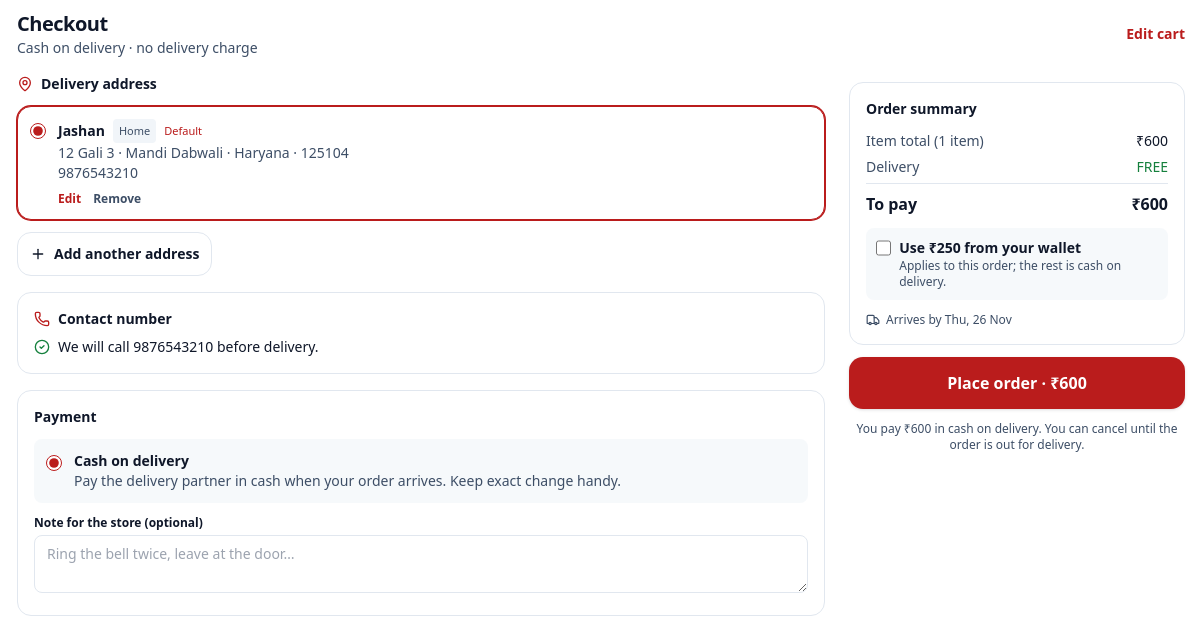
it: CheckoutPage wallet and addresses › switches the wallet on and pays the rest in cash
What coordinates should you click on to do the following:
click the checkbox labelled "from your wallet"
I would click on:
 (884, 248)
Its box is [876,240,891,256].
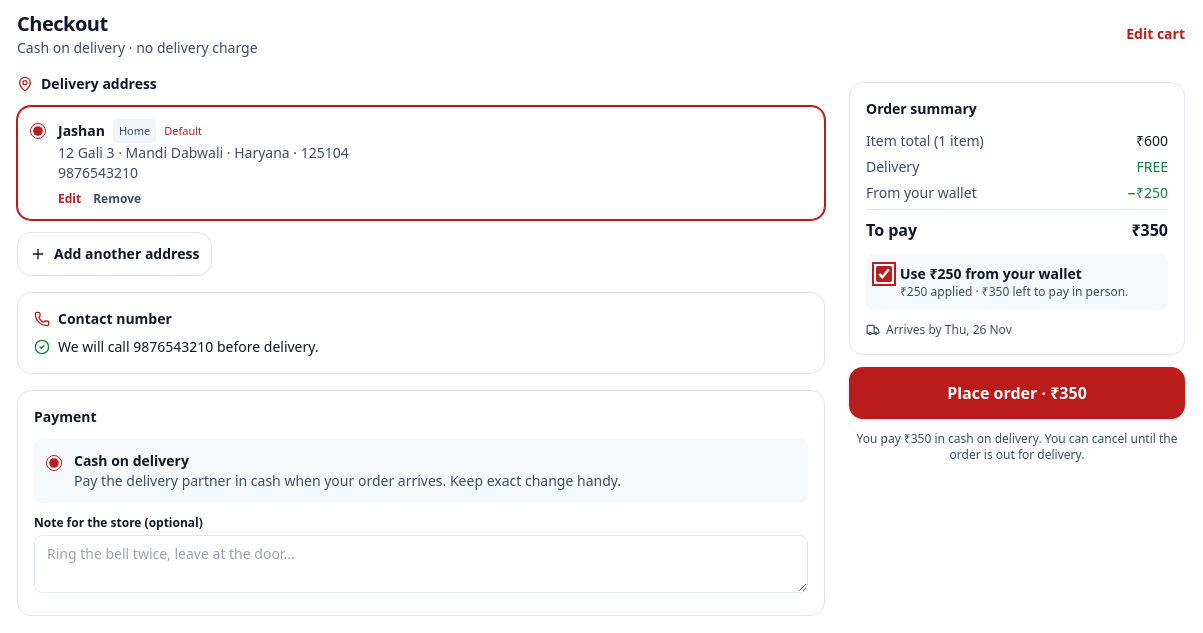
Now the text "From your wallet" is shown, box [866,183,977,203]
Now the text "−₹250" is shown, box [1127,183,1168,203]
Now the button "Place order · ₹350" is shown, box [849,367,1185,419]
